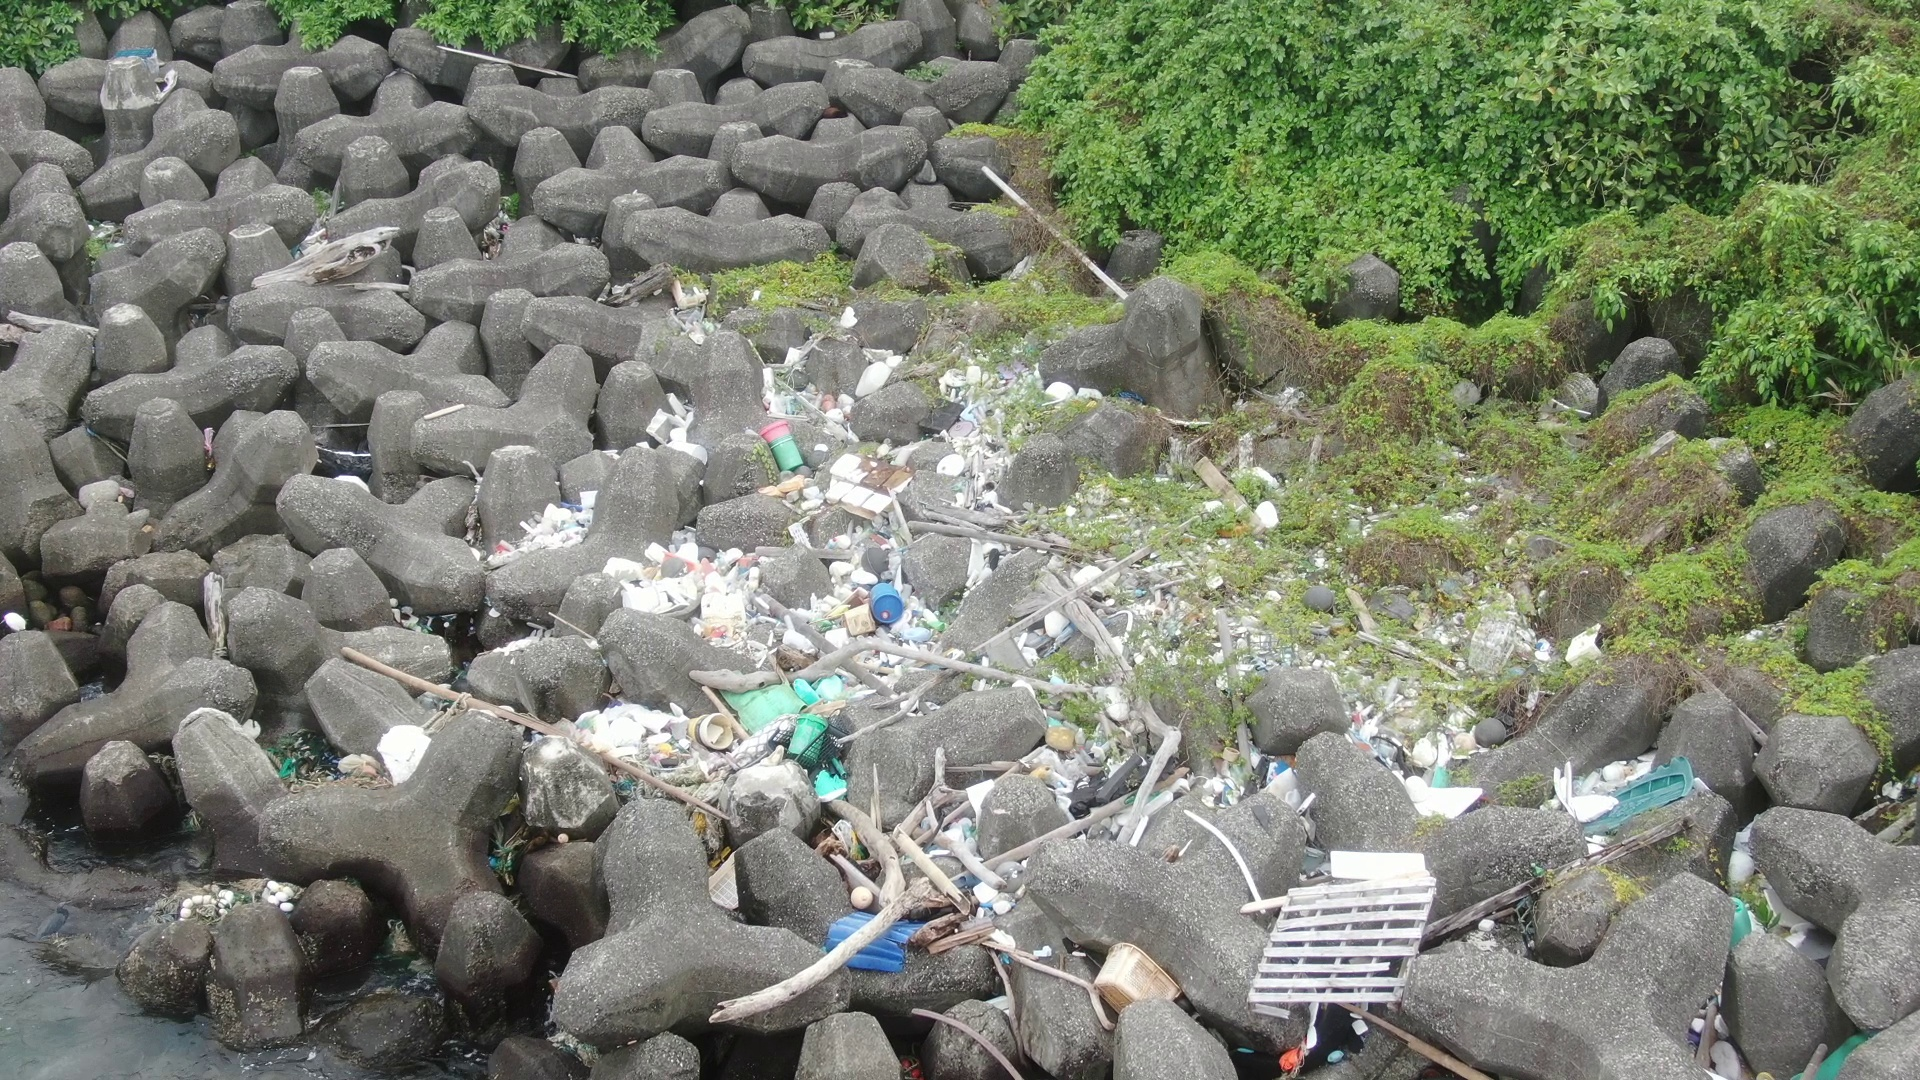garbage: (580, 520, 1030, 976), (634, 352, 1118, 520), (1052, 547, 1307, 833), (1232, 836, 1448, 1073), (1712, 886, 1875, 1080), (1342, 683, 1513, 833), (1542, 756, 1709, 836), (1084, 924, 1195, 1027), (484, 479, 612, 567), (272, 715, 342, 793), (480, 815, 529, 890), (109, 42, 167, 76)
